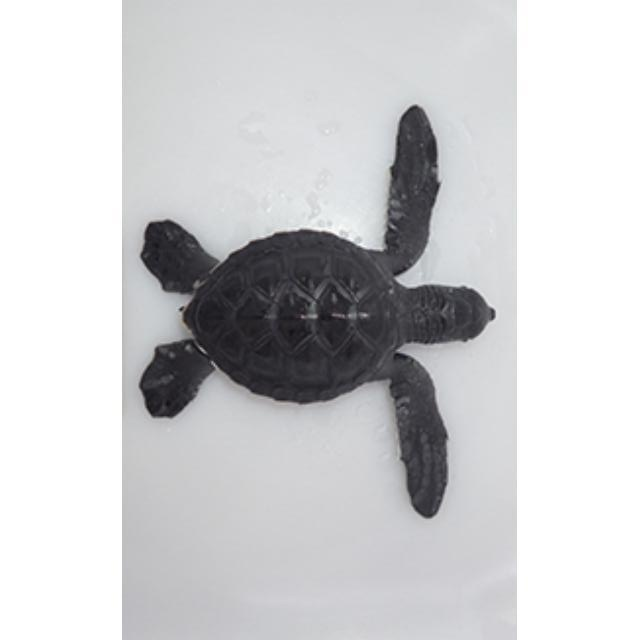turtle: (136, 105, 500, 522)
